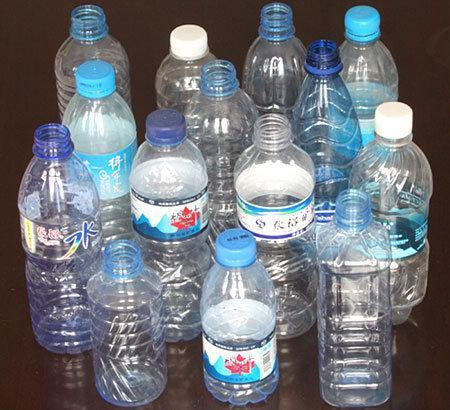bottle: (126, 103, 221, 344), (179, 55, 263, 313), (229, 112, 321, 339), (17, 122, 105, 353), (57, 60, 144, 290), (349, 97, 433, 325), (315, 187, 394, 408), (83, 233, 172, 407), (195, 229, 281, 408), (288, 36, 365, 200), (325, 3, 408, 130), (237, 0, 309, 126), (53, 3, 133, 111), (150, 21, 218, 105)
